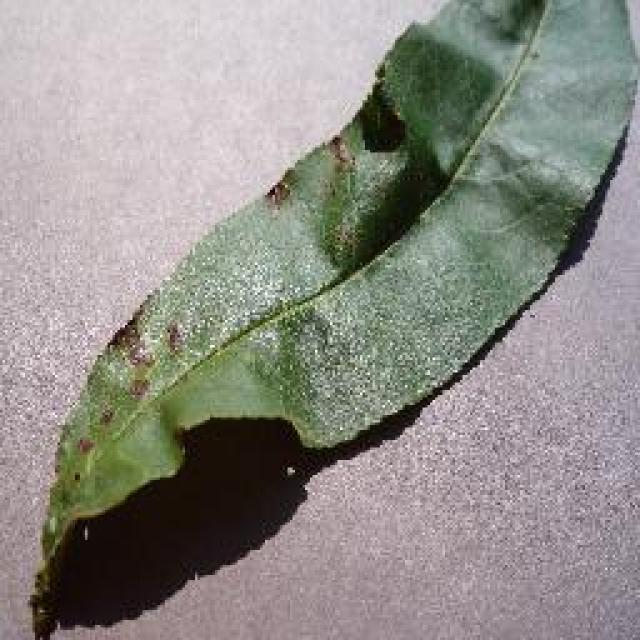Peach_Bacterial_Spot: (95, 242, 422, 446)
